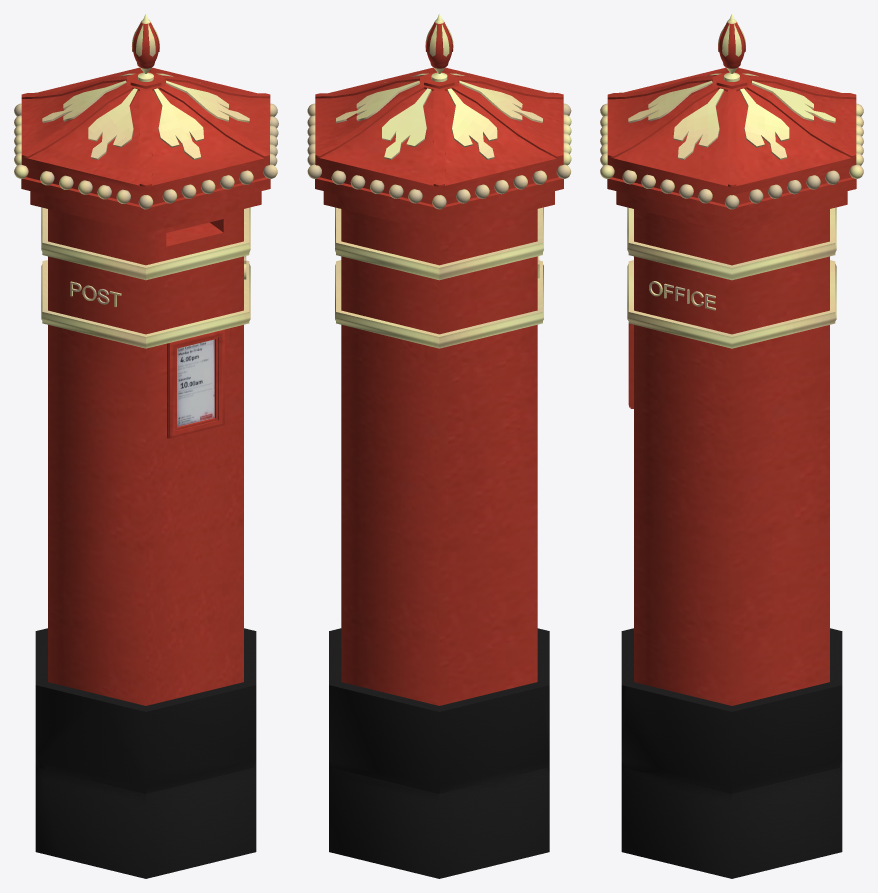
The model's file is UKVictorianPillarPostBox01.fbx.
3 renders of one model, left to right at view 1: azimuth 30°, elevation 25°; view 2: azimuth 150°, elevation 25°; view 3: azimuth 270°, elevation 25°, orthographic.
Parts seen in each view (by area): view 1: default; view 2: default; view 3: default.
Boxes of the visible parts, x1,y1,x2,y2 form: default: [14, 14, 278, 878]; default: [307, 14, 571, 878]; default: [600, 14, 863, 878].
Bounding box in the file's own units: 342 × 1011 × 298.
